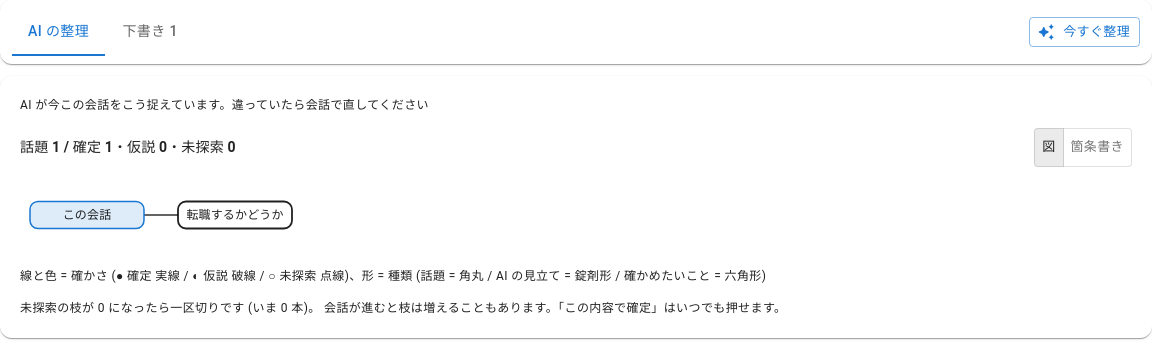
Scenario: [単体] OrganizingPane — タブ 2 枚の併存 › 「下書き」タブに切り替えると下書きカードが出る (置き換えではなく併存)
Click the tab with test id "draft-tab": (150, 32) top-left (105, 8), bottom-right (195, 56)
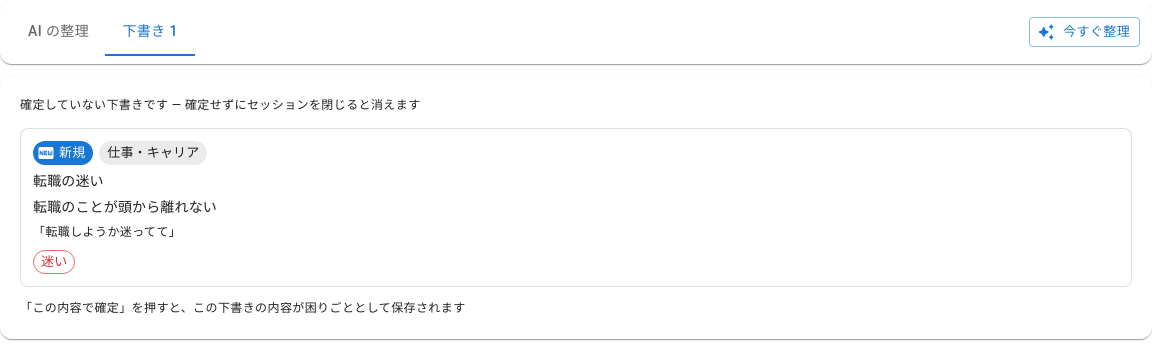
Check: the element with test id "preview-card" is shown, box top-left (20, 128), bottom-right (1132, 287)
Check: the element with test id "thinking-map-pane" is gone
